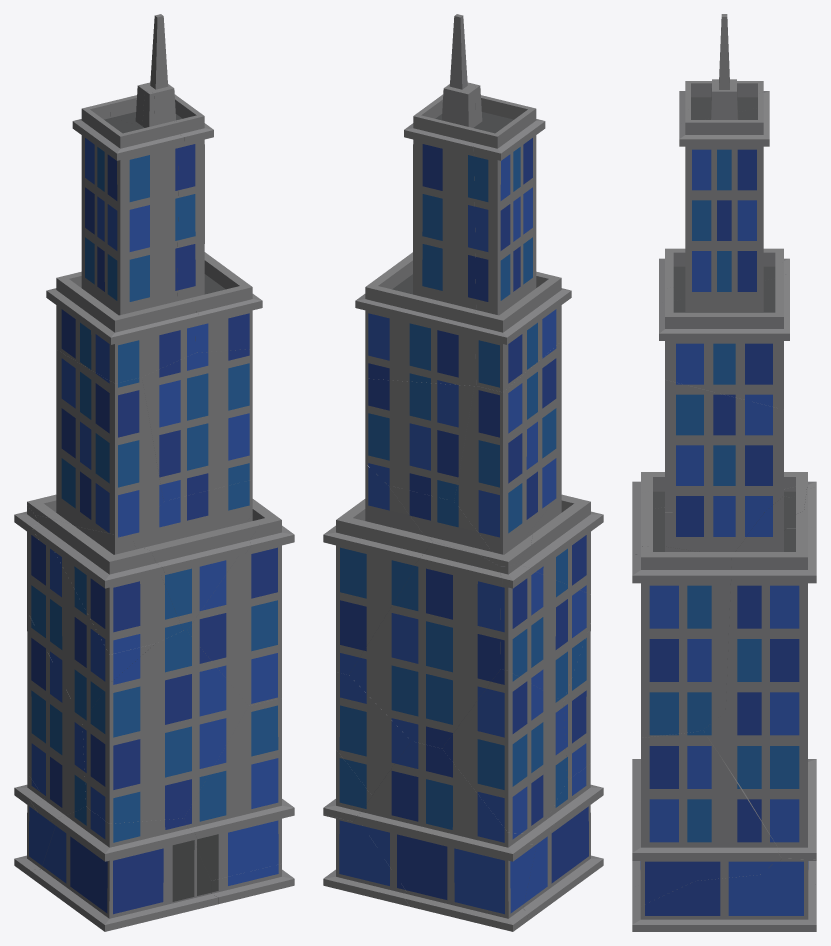
The model's file is HighHouse 1.3 Fractured.fbx.
3 renders of one model, left to right at view 1: azimuth 30°, elevation 25°; view 2: azimuth 150°, elevation 25°; view 3: azimuth 270°, elevation 25°, orthographic.
Visible parts, largest first — view 1: HighHouse_1_03_Breaking_cell.013, HighHouse_1_03_Breaking_cell.004, HighHouse_1_03_Breaking_cell.019, HighHouse_1_03_Breaking_cell.018, HighHouse_1_03_Breaking_cell.017, HighHouse_1_03_Breaking_cell.008, HighHouse_1_03_Breaking_cell.010, HighHouse_1_03_Breaking_cell, HighHouse_1_03_Breaking_cell.003, HighHouse_1_03_Breaking_cell.001, HighHouse_1_03_Breaking_cell.012, HighHouse_1_03_Breaking_cell.011 (+2 smaller); view 2: HighHouse_1_03_Breaking_cell.008, HighHouse_1_03_Breaking_cell.014, HighHouse_1_03_Breaking_cell.016, HighHouse_1_03_Breaking_cell.013, HighHouse_1_03_Breaking_cell.019, HighHouse_1_03_Breaking_cell.011, HighHouse_1_03_Breaking_cell.007, HighHouse_1_03_Breaking_cell.017, HighHouse_1_03_Breaking_cell.012, HighHouse_1_03_Breaking_cell.018, HighHouse_1_03_Breaking_cell.009, HighHouse_1_03_Breaking_cell.003 (+4 smaller); view 3: HighHouse_1_03_Breaking_cell.008, HighHouse_1_03_Breaking_cell, HighHouse_1_03_Breaking_cell.007, HighHouse_1_03_Breaking_cell.017, HighHouse_1_03_Breaking_cell.010, HighHouse_1_03_Breaking_cell.005, HighHouse_1_03_Breaking_cell.009, HighHouse_1_03_Breaking_cell.006, HighHouse_1_03_Breaking_cell.001, HighHouse_1_03_Breaking_cell.013, HighHouse_1_03_Breaking_cell.002, HighHouse_1_03_Breaking_cell.015 (+4 smaller).
Boxes of the visible parts, left/top/right/bottom form: HighHouse_1_03_Breaking_cell.013: left=46, top=91, right=201, bottom=383; HighHouse_1_03_Breaking_cell.004: left=82, top=630, right=248, bottom=823; HighHouse_1_03_Breaking_cell.019: left=27, top=350, right=163, bottom=540; HighHouse_1_03_Breaking_cell.018: left=27, top=807, right=217, bottom=931; HighHouse_1_03_Breaking_cell.017: left=142, top=349, right=252, bottom=501; HighHouse_1_03_Breaking_cell.008: left=106, top=14, right=262, bottom=352; HighHouse_1_03_Breaking_cell.010: left=184, top=698, right=294, bottom=880; HighHouse_1_03_Breaking_cell: left=187, top=499, right=294, bottom=705; HighHouse_1_03_Breaking_cell.003: left=32, top=515, right=182, bottom=654; HighHouse_1_03_Breaking_cell.001: left=133, top=479, right=259, bottom=630; HighHouse_1_03_Breaking_cell.012: left=14, top=506, right=155, bottom=721; HighHouse_1_03_Breaking_cell.011: left=27, top=611, right=86, bottom=820; HighHouse_1_03_Breaking_cell.008: left=355, top=14, right=476, bottom=385; HighHouse_1_03_Breaking_cell.014: left=354, top=741, right=536, bottom=931; HighHouse_1_03_Breaking_cell.016: left=349, top=541, right=502, bottom=748; HighHouse_1_03_Breaking_cell.013: left=474, top=84, right=571, bottom=392; HighHouse_1_03_Breaking_cell.019: left=454, top=341, right=561, bottom=566; HighHouse_1_03_Breaking_cell.011: left=442, top=669, right=567, bottom=844; HighHouse_1_03_Breaking_cell.007: left=323, top=464, right=432, bottom=674; HighHouse_1_03_Breaking_cell.017: left=365, top=378, right=474, bottom=501; HighHouse_1_03_Breaking_cell.012: left=499, top=563, right=590, bottom=701; HighHouse_1_03_Breaking_cell.018: left=523, top=764, right=603, bottom=921; HighHouse_1_03_Breaking_cell.009: left=336, top=672, right=410, bottom=795; HighHouse_1_03_Breaking_cell.003: left=516, top=492, right=603, bottom=594; HighHouse_1_03_Breaking_cell.008: left=659, top=14, right=789, bottom=409; HighHouse_1_03_Breaking_cell: left=632, top=546, right=731, bottom=737; HighHouse_1_03_Breaking_cell.007: left=725, top=496, right=816, bottom=711; HighHouse_1_03_Breaking_cell.017: left=665, top=380, right=783, bottom=512; HighHouse_1_03_Breaking_cell.010: left=632, top=732, right=695, bottom=905; HighHouse_1_03_Breaking_cell.005: left=695, top=730, right=781, bottom=880; HighHouse_1_03_Breaking_cell.009: left=703, top=712, right=807, bottom=789; HighHouse_1_03_Breaking_cell.006: left=632, top=874, right=762, bottom=931; HighHouse_1_03_Breaking_cell.001: left=632, top=488, right=806, bottom=554; HighHouse_1_03_Breaking_cell.013: left=659, top=79, right=789, bottom=303; HighHouse_1_03_Breaking_cell.002: left=762, top=858, right=816, bottom=931; HighHouse_1_03_Breaking_cell.015: left=743, top=790, right=816, bottom=859.
Size of the model in its own units: 551 by 2380 by 456.
